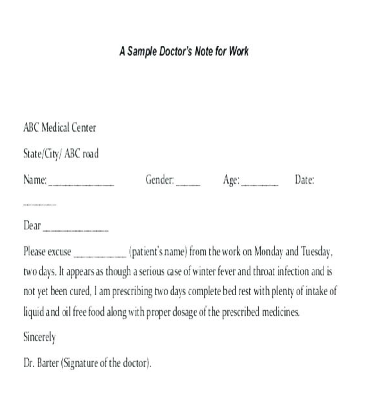textline: (41, 215, 113, 234), (47, 171, 116, 187), (72, 242, 130, 260), (240, 171, 280, 187), (20, 192, 62, 207), (174, 171, 202, 189)
